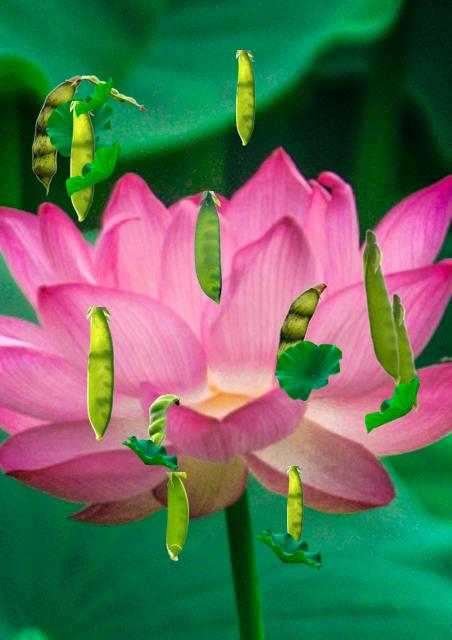pea: (361, 228, 400, 386), (276, 282, 326, 401), (32, 75, 82, 194), (87, 307, 113, 439), (392, 292, 418, 411), (194, 191, 220, 304), (70, 101, 94, 220), (71, 75, 145, 109), (166, 472, 187, 559), (147, 394, 181, 445), (236, 50, 254, 144), (287, 466, 302, 540)
